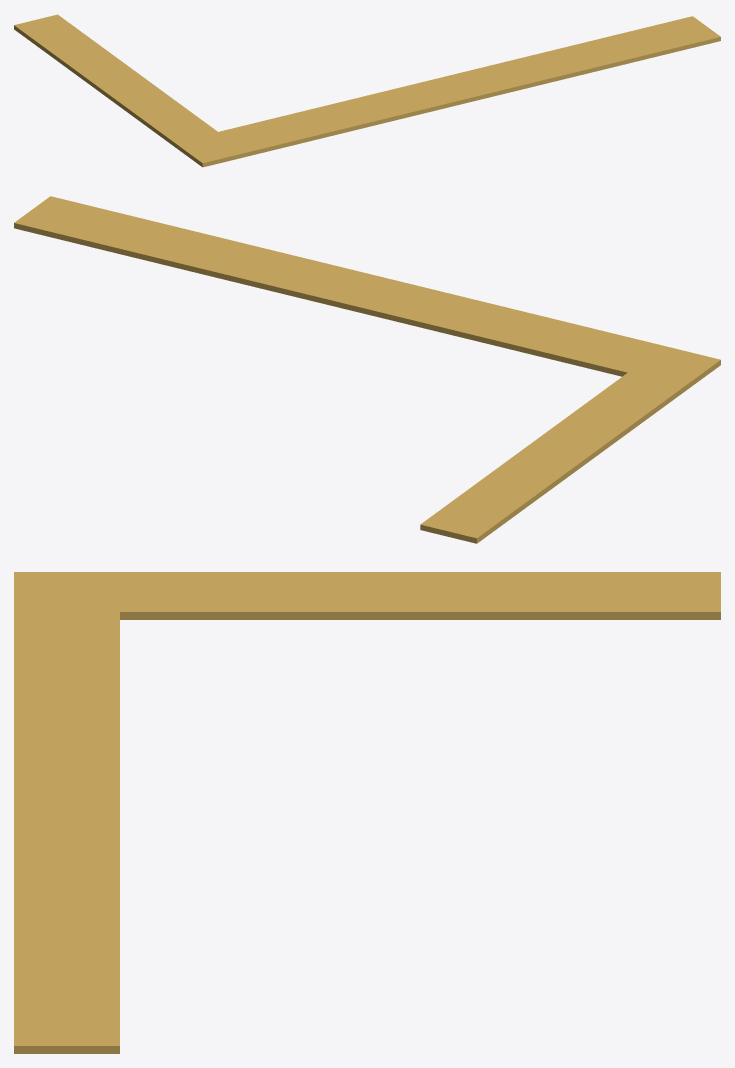
The model's file is SM_MotorPoolParkingMark.fbx.
3 views of the same model, one above another, from view 1: azimuth 30°, elevation 25°; view 2: azimuth 150°, elevation 25°; view 3: azimuth 270°, elevation 25° (orthographic). The views are drawn at different scales.
Visible parts, largest first — view 1: SM_MotorPoolParkingMark; view 2: SM_MotorPoolParkingMark; view 3: SM_MotorPoolParkingMark.
Boxes of the visible parts, <box> form: SM_MotorPoolParkingMark: <box>14,14,720,167</box>; SM_MotorPoolParkingMark: <box>14,196,720,543</box>; SM_MotorPoolParkingMark: <box>14,572,720,1053</box>.
Bounding box in the file's own units: 90 × 0.7 × 56.75.
